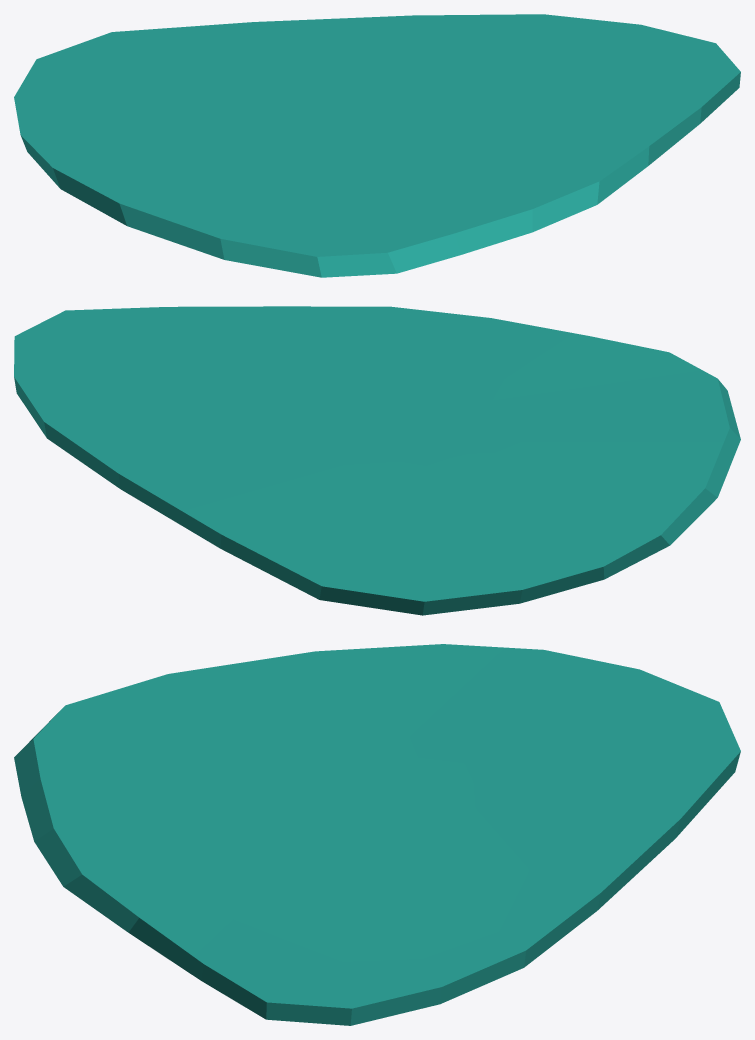
File: pod.fbx
3 views of the same model, one above another, from view 1: azimuth 30°, elevation 25°; view 2: azimuth 150°, elevation 25°; view 3: azimuth 270°, elevation 25° (orthographic). The views are drawn at different scales.
Parts seen in each view (by area): view 1: pod2; view 2: pod2; view 3: pod2.
Part boxes in pixels (x1,y1,x2,y2): pod2: [14, 14, 740, 277]; pod2: [14, 306, 740, 615]; pod2: [14, 644, 740, 1025].
Size of the model in its own units: 1699 by 41.75 by 1430.
